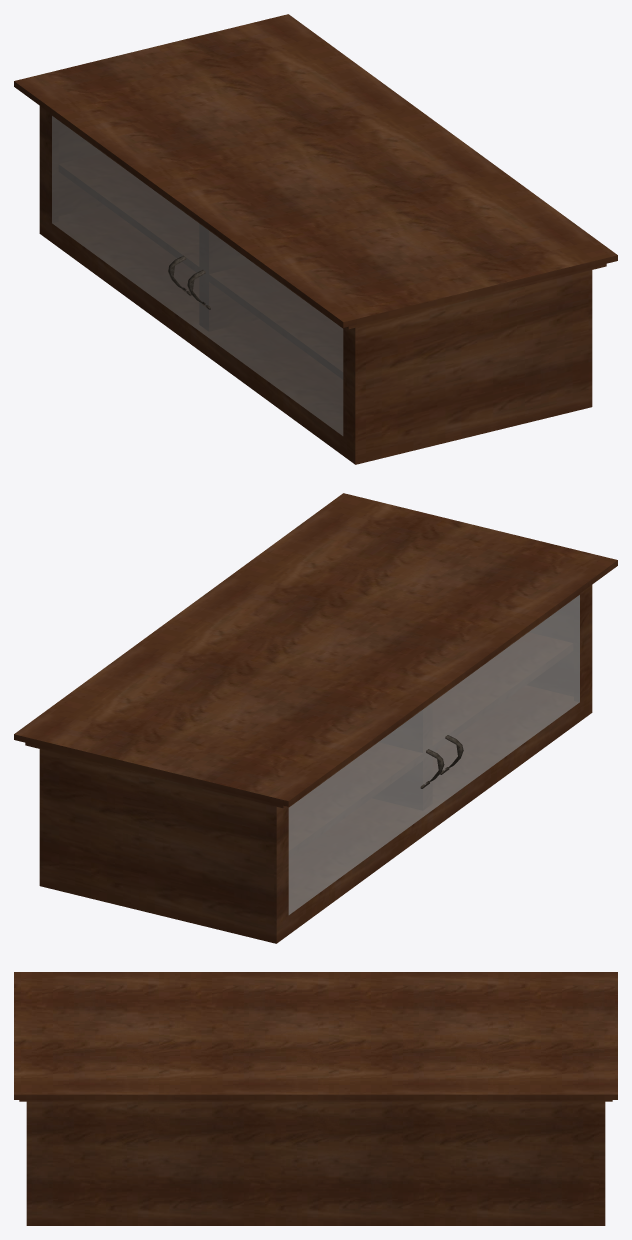
Rendered from tv_table.dae.
3 renders of one model, top to bottom at view 1: azimuth 30°, elevation 25°; view 2: azimuth 150°, elevation 25°; view 3: azimuth 270°, elevation 25°, orthographic. The views are drawn at different scales.
Visible parts, largest first — view 1: TV (×5); view 2: TV (×5); view 3: TV (×3).
Boxes of the visible parts, <box> form: TV (×5): <box>14,14,617,464</box>; TV (×5): <box>14,493,617,943</box>; TV (×3): <box>14,972,617,1225</box>.
Bounding box in the file's own units: 38.83 × 80.71 × 20.59.
3 materials, 2 textured.
